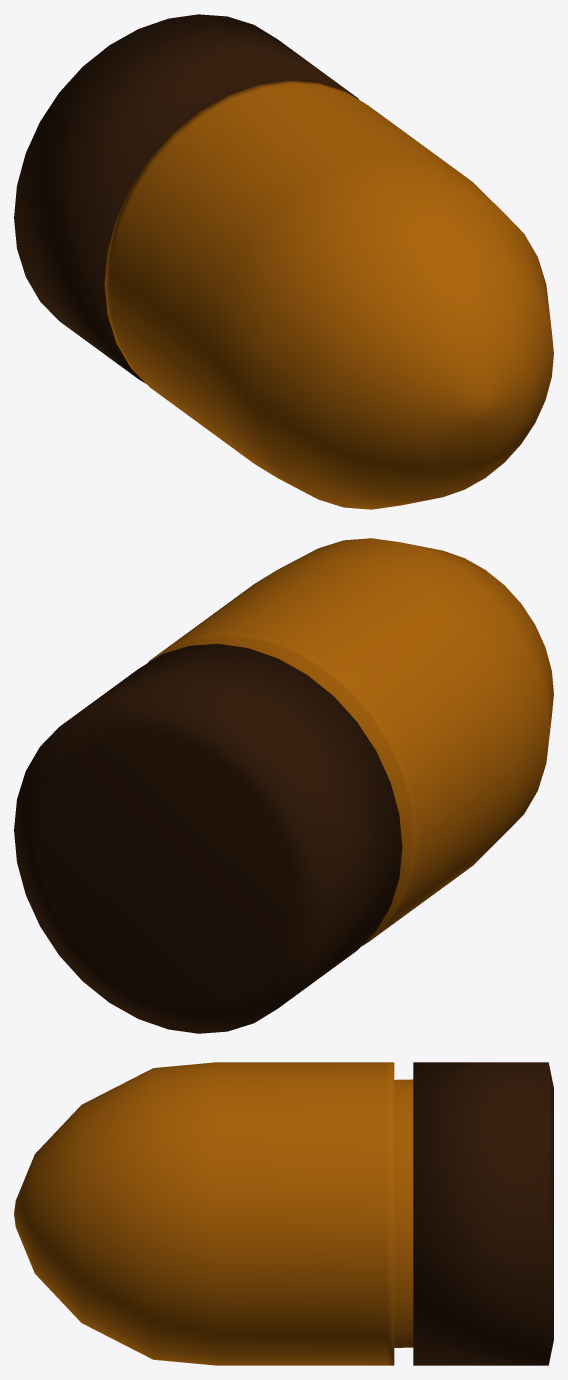
The model's file is bullet4.fbx.
3 views of the same model, one above another, from view 1: azimuth 30°, elevation 25°; view 2: azimuth 150°, elevation 25°; view 3: azimuth 270°, elevation 25° (orthographic). The views are drawn at different scales.
Visible parts, largest first — view 1: Cylinder, Cylinder.001; view 2: Cylinder.001, Cylinder; view 3: Cylinder, Cylinder.001.
Part boxes in pixels (bbox=[...]): Cylinder: bbox=[104, 80, 553, 509]; Cylinder.001: bbox=[14, 14, 358, 383]; Cylinder.001: bbox=[14, 643, 402, 1033]; Cylinder: bbox=[147, 538, 553, 946]; Cylinder: bbox=[14, 1062, 413, 1365]; Cylinder.001: bbox=[413, 1062, 553, 1365].
Size of the model in its own units: 200 by 200 by 356.
